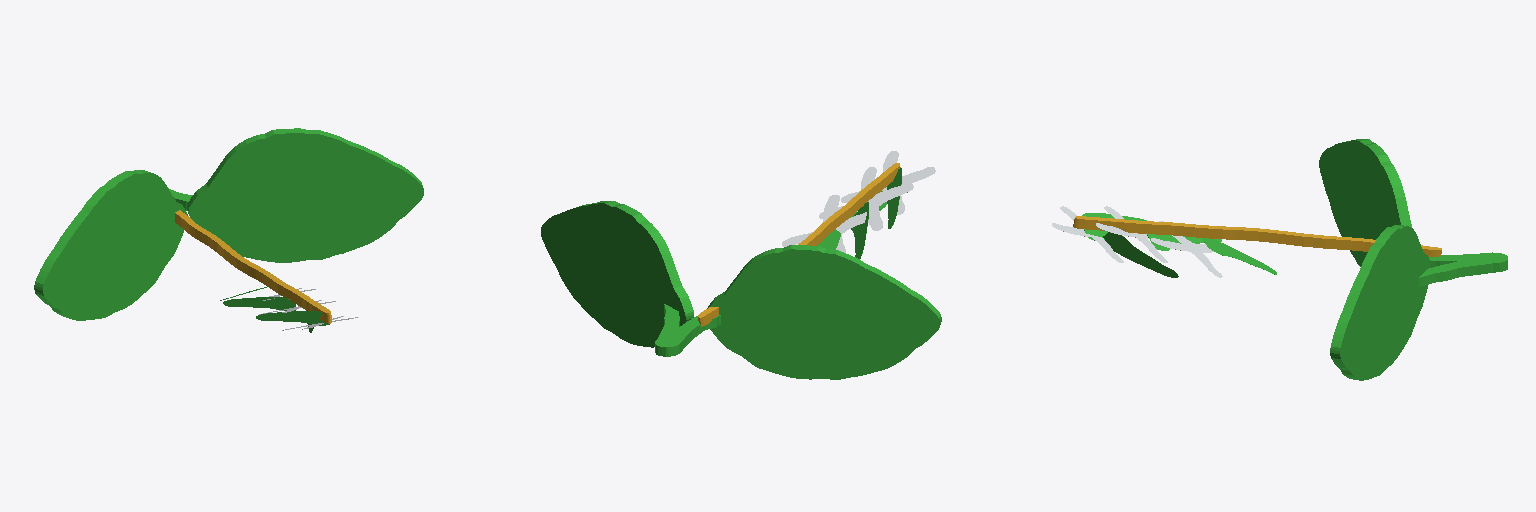
File: tinker.obj
3 renders of one model, left to right at view 1: azimuth 30°, elevation 25°; view 2: azimuth 150°, elevation 25°; view 3: azimuth 270°, elevation 25°, orthographic.
Parts seen in each view (by area): view 1: obj_0; view 2: obj_0; view 3: obj_0.
Boxes of the visible parts, x1,y1,x2,y2 form: obj_0: [34, 128, 423, 332]; obj_0: [541, 151, 941, 379]; obj_0: [1052, 139, 1507, 380].
Bounding box in the file's own units: 41.46 × 13 × 41.57.